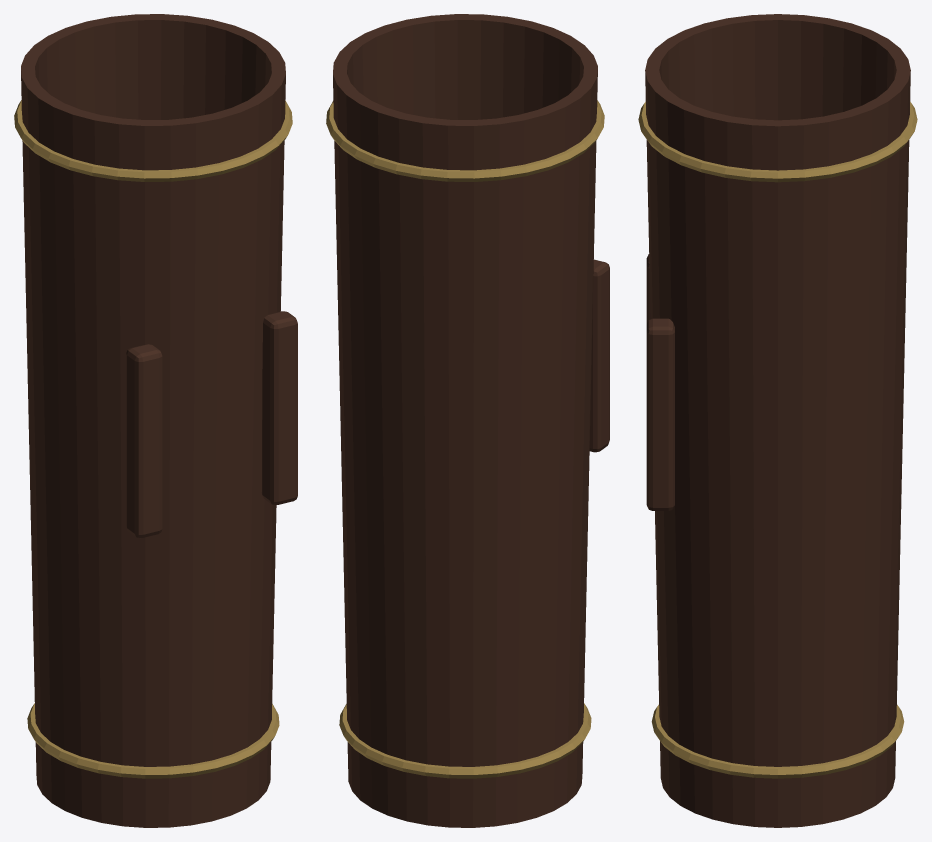
File: quiver.glb
3 views of the same model, side by side, from view 1: azimuth 30°, elevation 25°; view 2: azimuth 150°, elevation 25°; view 3: azimuth 270°, elevation 25° (orthographic).
Visible parts, largest first — view 1: SM_QuiverLeather, SM_BeltLoop, SM_BeltLoop.001, SM_QuiverBand.001, SM_QuiverBand; view 2: SM_QuiverLeather, SM_QuiverBand.001, SM_QuiverBand, SM_BeltLoop; view 3: SM_QuiverLeather, SM_BeltLoop.001, SM_QuiverBand.001, SM_QuiverBand.
Boxes of the visible parts, x1,y1,x2,y2 form: SM_QuiverLeather: (21, 14, 285, 827); SM_BeltLoop: (126, 344, 162, 537); SM_BeltLoop.001: (261, 311, 297, 504); SM_QuiverBand.001: (14, 100, 292, 181); SM_QuiverBand: (27, 703, 279, 778); SM_QuiverLeather: (333, 14, 597, 827); SM_QuiverBand.001: (326, 100, 604, 181); SM_QuiverBand: (339, 703, 591, 778); SM_BeltLoop: (589, 259, 609, 452); SM_QuiverLeather: (645, 14, 910, 827); SM_BeltLoop.001: (646, 318, 674, 510); SM_QuiverBand.001: (638, 101, 917, 182); SM_QuiverBand: (651, 704, 904, 778).
Size of the model in its own units: 0.1786 by 0.5 by 0.1786.
